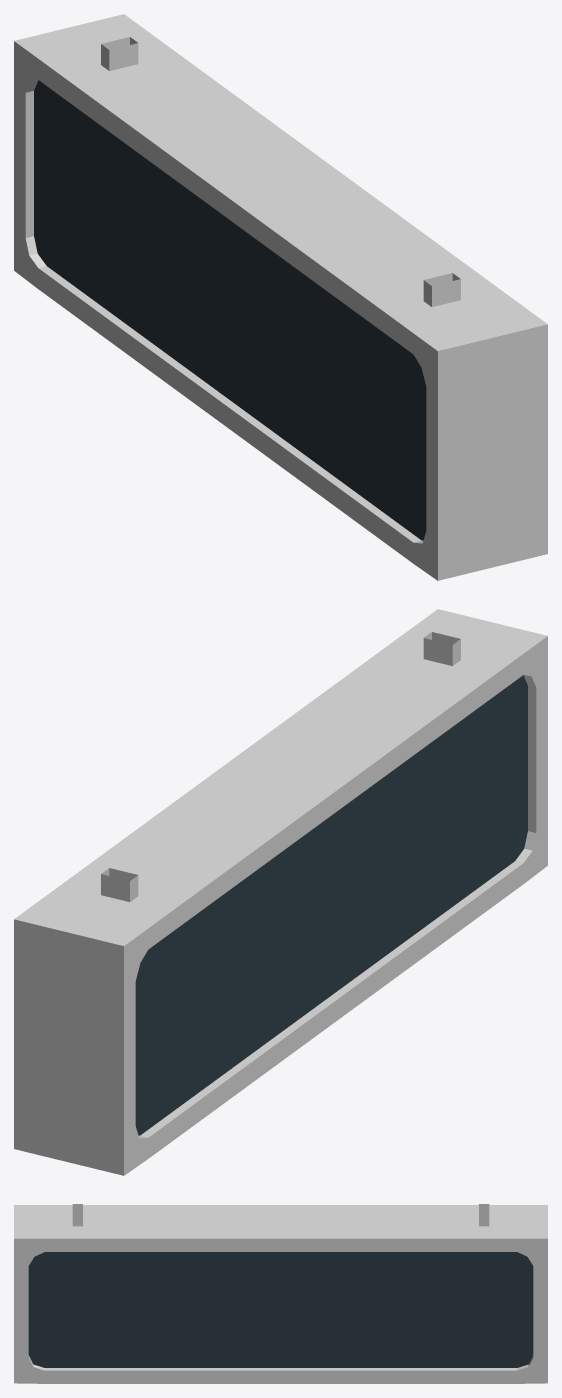
Rendered from door-display.glb.
3 views of the same model, one above another, from view 1: azimuth 30°, elevation 25°; view 2: azimuth 150°, elevation 25°; view 3: azimuth 270°, elevation 25° (orthographic). The views are drawn at different scales.
Parts seen in each view (by area): view 1: Cube_Cube.001 / Metal, Cube_Cube.001 / Display; view 2: Cube_Cube.001 / Metal, Cube_Cube.001 / Display; view 3: Cube_Cube.001 / Display, Cube_Cube.001 / Metal.
Part boxes in pixels (box(x1,y1,x2,y2)): Cube_Cube.001 / Metal: box(14, 14, 547, 580); Cube_Cube.001 / Display: box(34, 80, 426, 540); Cube_Cube.001 / Metal: box(14, 609, 547, 1175); Cube_Cube.001 / Display: box(135, 675, 527, 1135); Cube_Cube.001 / Display: box(28, 1252, 533, 1367); Cube_Cube.001 / Metal: box(14, 1204, 547, 1383).
Size of the model in its own units: 0.3 by 0.655 by 2.
